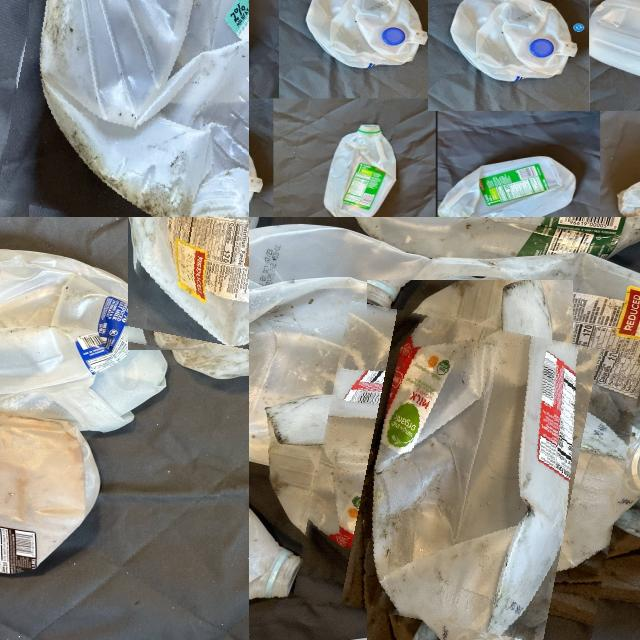milk-jug: (306, 314, 632, 640), (8, 0, 249, 217), (371, 245, 640, 433), (249, 229, 399, 464), (0, 253, 190, 435), (0, 407, 117, 576), (130, 217, 249, 375), (313, 217, 640, 253), (249, 443, 303, 640), (448, 0, 576, 81), (439, 145, 569, 217), (308, 0, 422, 76), (318, 119, 400, 217), (595, 0, 640, 93)
